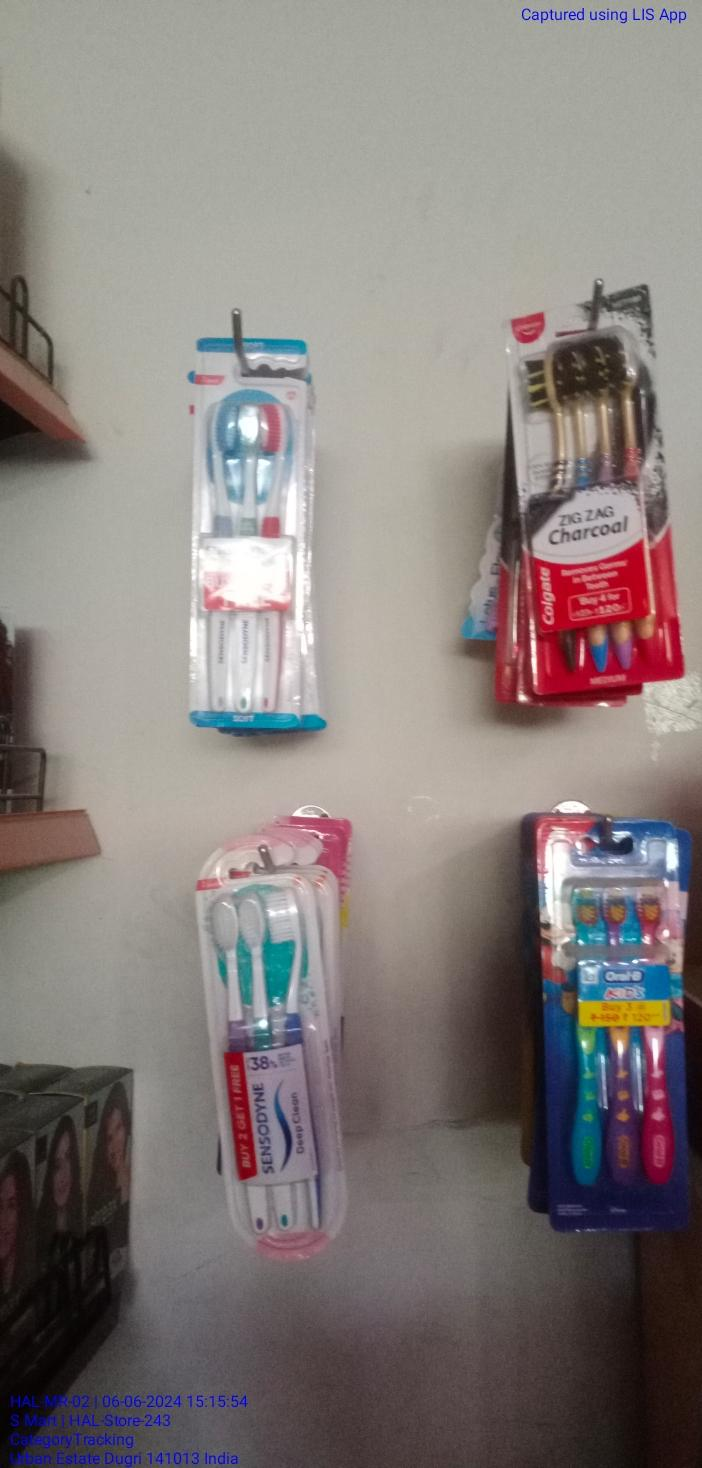5: (202, 839, 338, 1261)
liquid soap: (510, 305, 682, 684)
